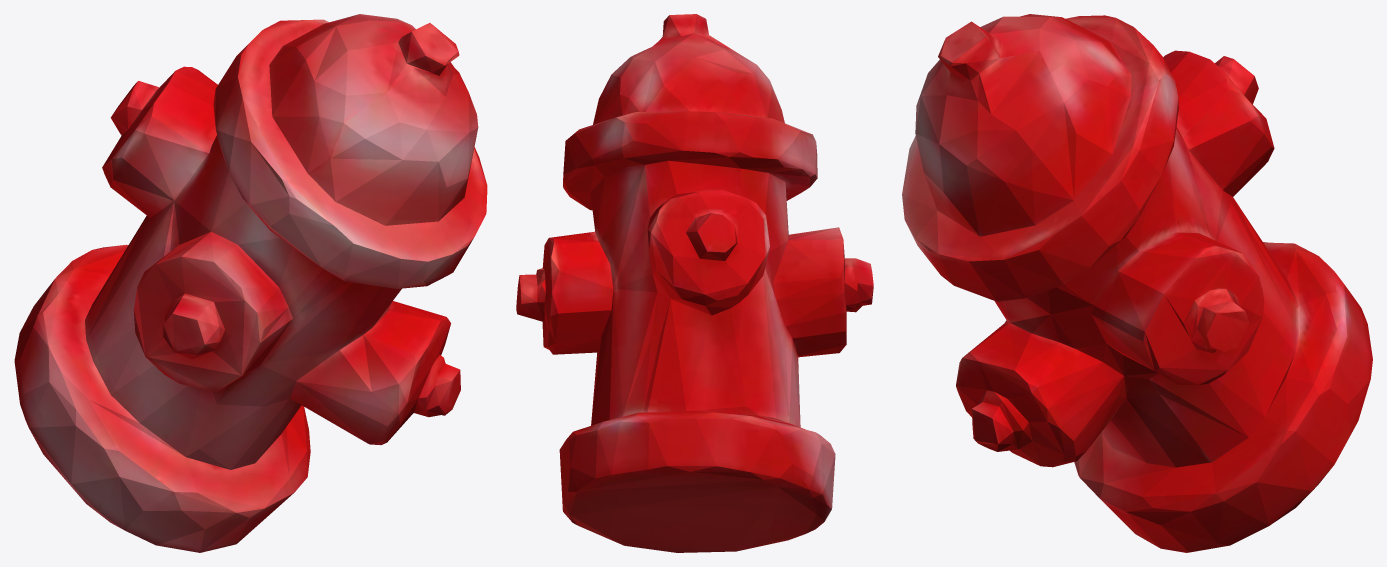
Rendered from hydrant.glb.
The picture shows the model from 3 angles, left to right: view 1: azimuth 30°, elevation 25°; view 2: azimuth 150°, elevation 25°; view 3: azimuth 270°, elevation 25°; orthographic projection. The views are drawn at different scales.
Visible parts, largest first — view 1: geometry_0; view 2: geometry_0; view 3: geometry_0.
Part boxes in pixels (<box>): geometry_0: <box>14,14,487,552</box>; geometry_0: <box>516,14,873,552</box>; geometry_0: <box>902,14,1372,552</box>.
Size of the model in its own units: 0.4967 by 0.7096 by 0.5409.
1 material, 1 textured.
